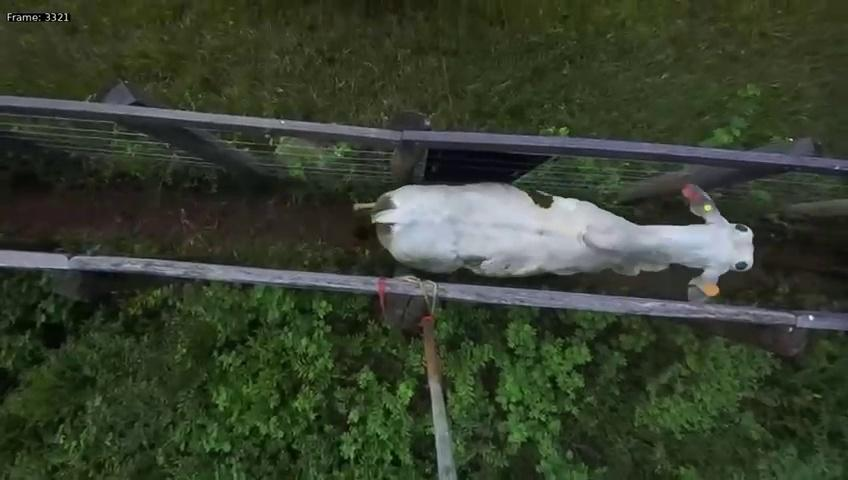cattle: (345, 176, 763, 311)
